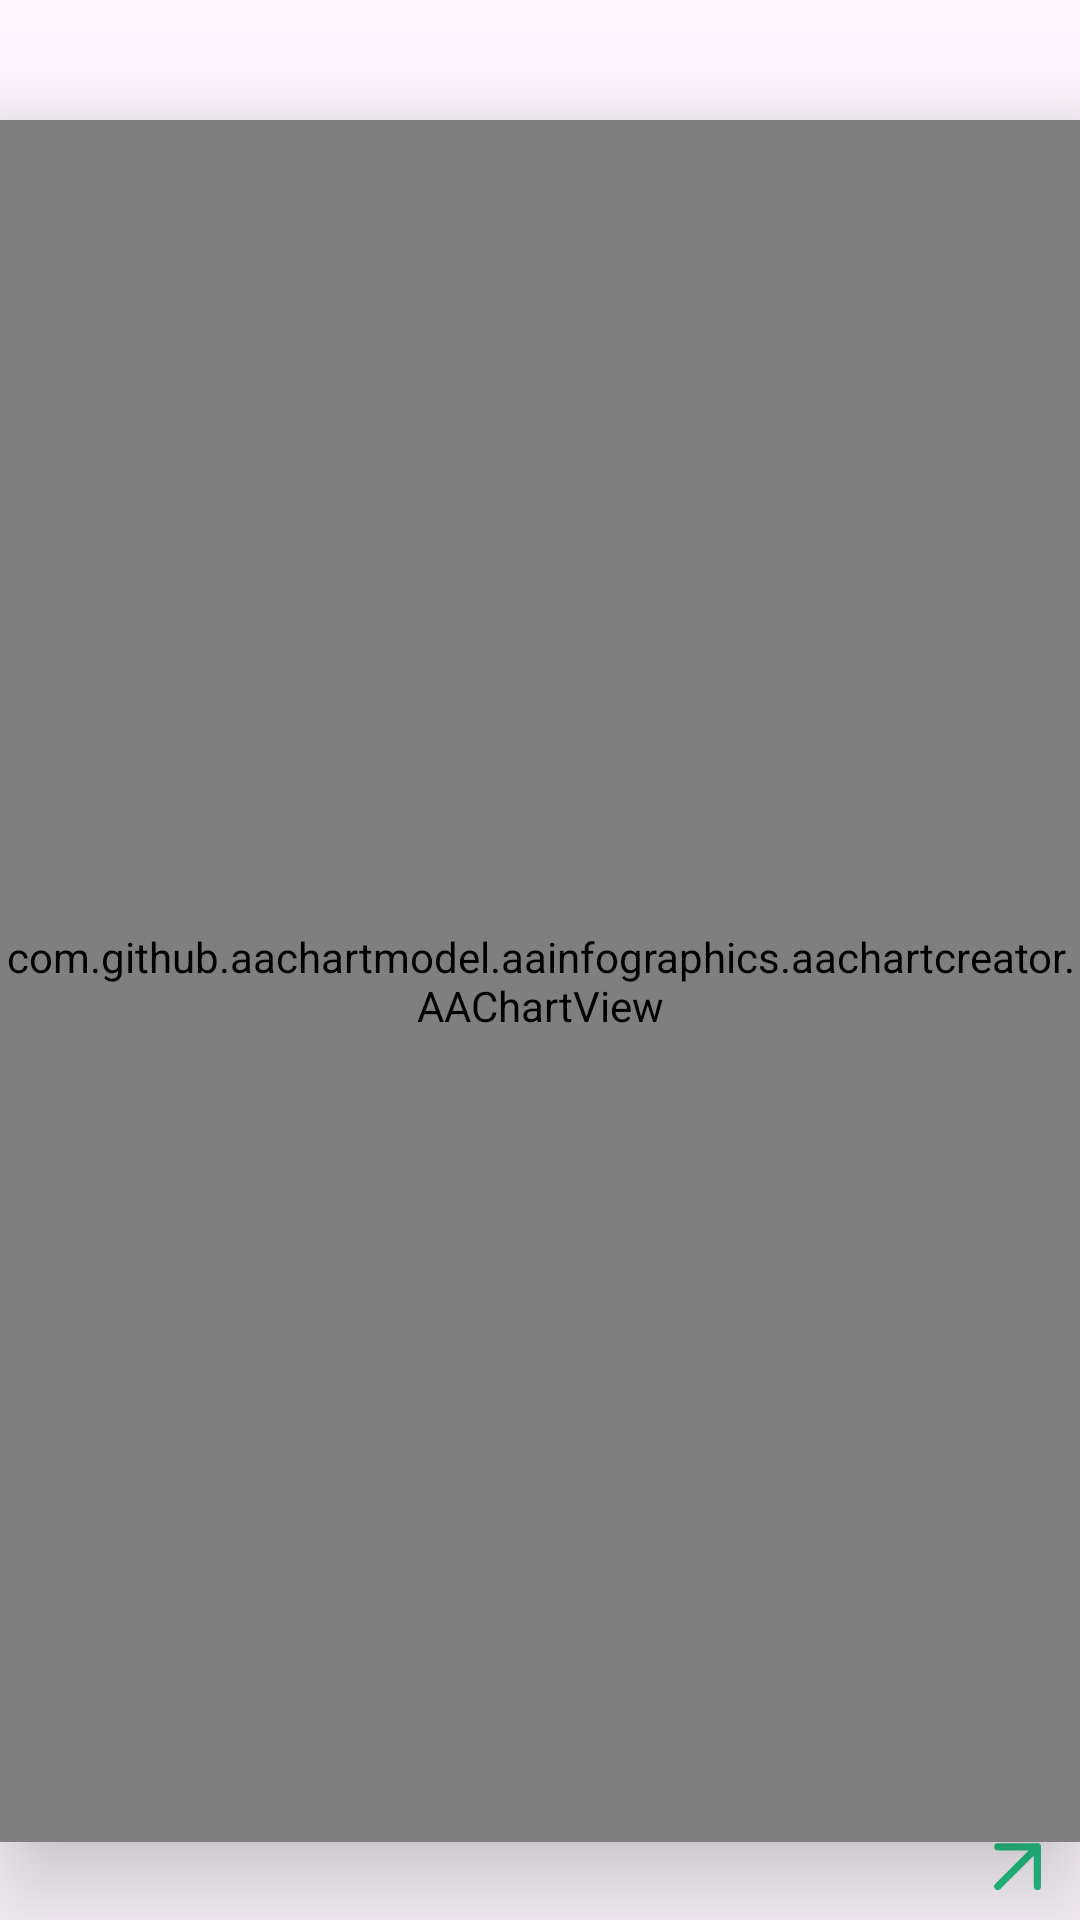

Icon click points for this 1080x1920 phone screenshot, format [x,y]:
up arrow: [1017,1866]
